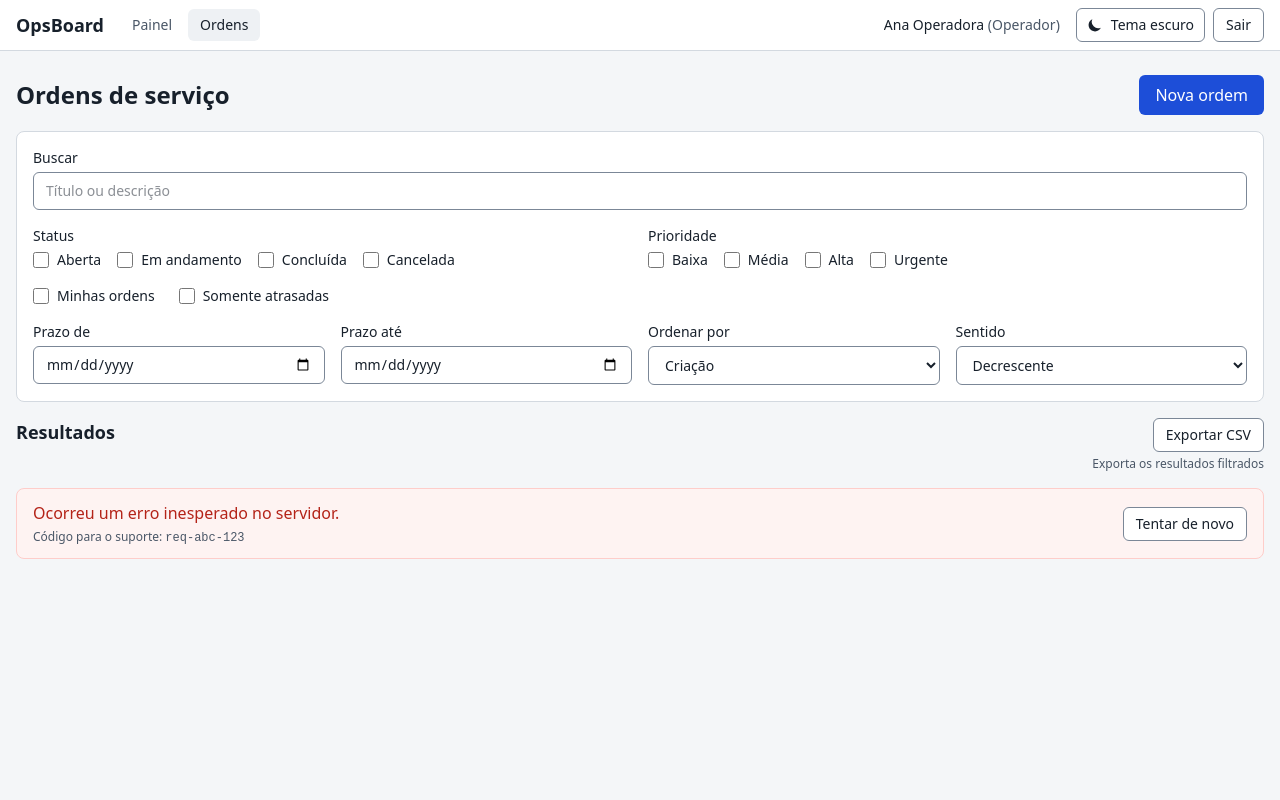
Lista de ordens (/orders) › erro inesperado mostra a mensagem, o requestId e "Tentar de novo" funciona
Expected: the message shows "Ocorreu um erro inesperado no servidor.", [33,502,339,524]
Expected: the message shows "req-abc-123", [165,531,244,545]
Click the button "Tentar de novo". click: [1185, 524]
box: [1123,506,1247,540]
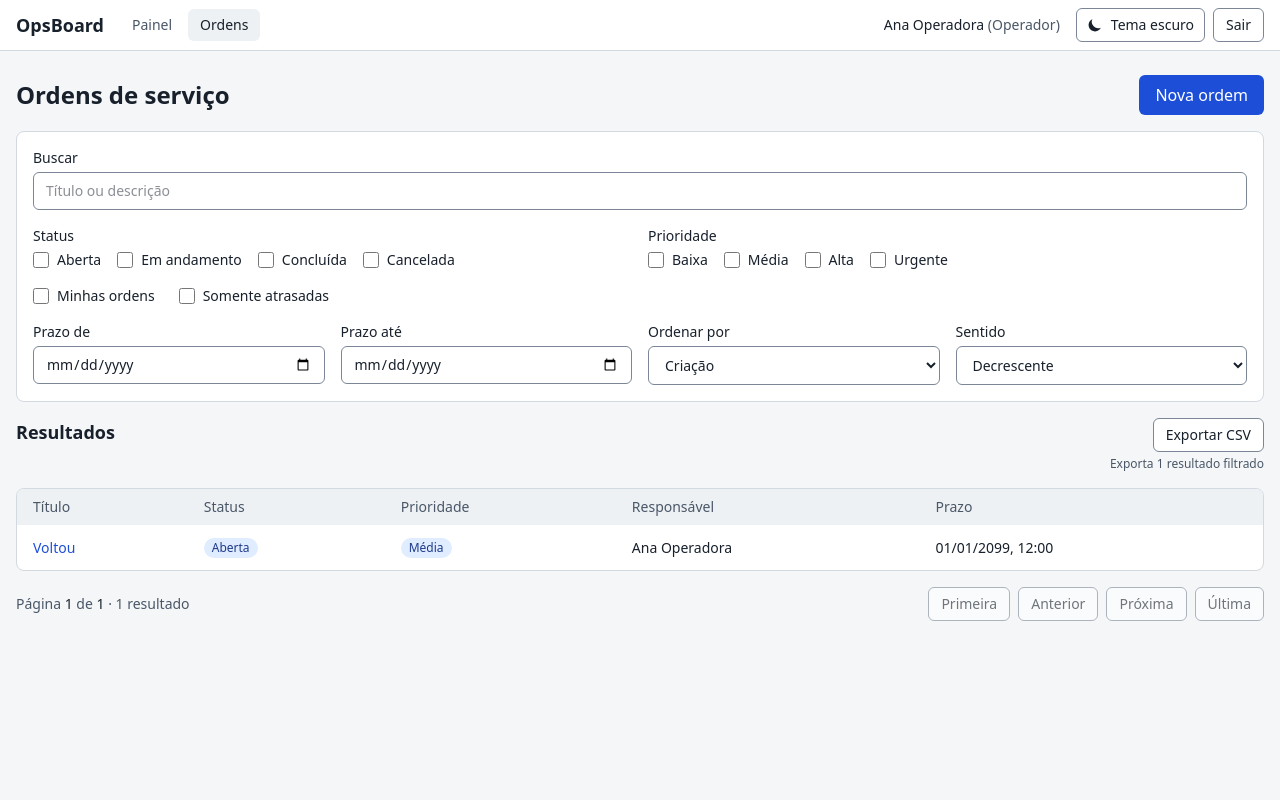
Expected: the message is gone
